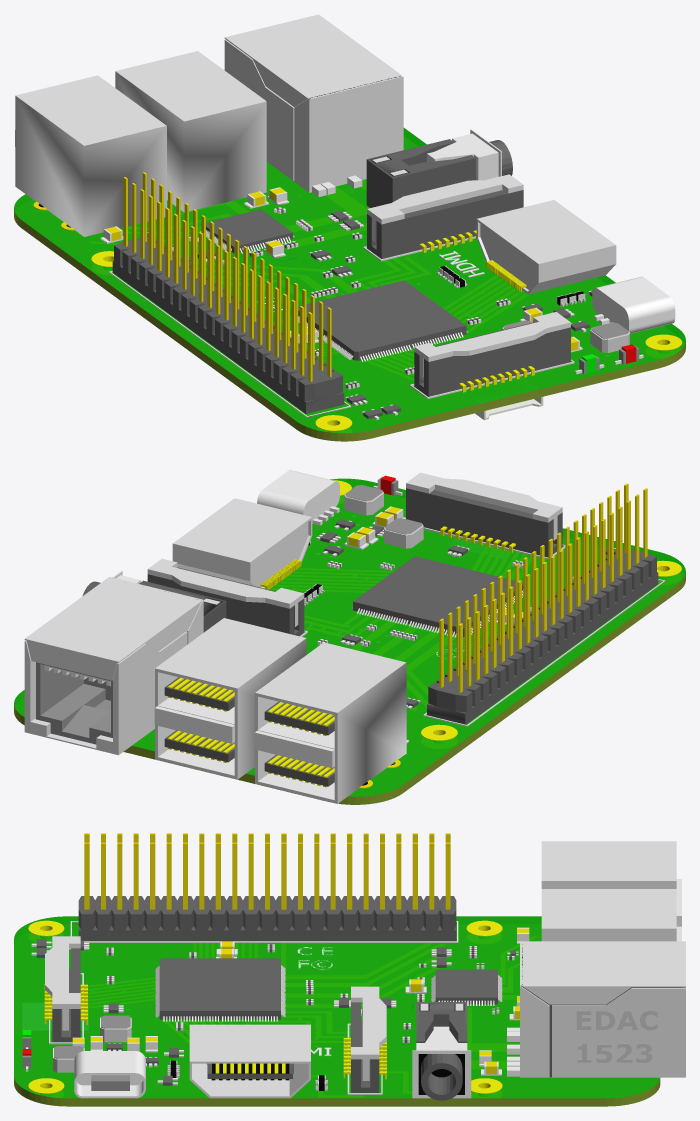
3 views of the same model, one above another, from view 1: azimuth 30°, elevation 25°; view 2: azimuth 150°, elevation 25°; view 3: azimuth 270°, elevation 25° (orthographic). The views are drawn at different scales.
Parts seen in each view (by area): view 1: Model, Group417, Group395, Group2, Group301, Group333, Group278, Group103, Group277, Group16; view 2: Model, Group417, Group395, Group2, Group301, Group333, Group103, Group278, Group5, Group11, Group277, Group12 (+7 smaller); view 3: Group417, Group395, Model, Group2, Group301, Group103, Group277, Group278, Group333, Group16, EDAC_1523_.
Boxes of the visible parts, <box> form: Model: <box>15,51,675,420</box>; Group417: <box>14,128,685,441</box>; Group395: <box>112,172,344,413</box>; Group2: <box>224,14,403,192</box>; Group301: <box>476,200,616,294</box>; Group333: <box>409,312,574,398</box>; Group278: <box>363,174,523,261</box>; Group103: <box>298,280,466,360</box>; Group277: <box>366,129,512,207</box>; Group16: <box>206,209,292,253</box>; Model: <box>155,470,665,803</box>; Group417: <box>14,478,685,804</box>; Group395: <box>427,483,658,724</box>; Group2: <box>24,577,203,755</box>; Group301: <box>172,498,312,589</box>; Group333: <box>406,472,565,559</box>; Group103: <box>353,556,523,637</box>; Group278: <box>147,558,307,636</box>; Group5: <box>154,672,234,776</box>; Group11: <box>254,696,334,800</box>; Group277: <box>82,571,226,632</box>; Group12: <box>264,701,334,735</box>; Group417: <box>14,916,660,1106</box>; Group395: <box>78,833,456,941</box>; Model: <box>22,841,676,1098</box>; Group2: <box>520,941,685,1077</box>; Group301: <box>189,1024,310,1098</box>; Group103: <box>159,958,280,1019</box>; Group277: <box>412,1002,471,1100</box>; Group278: <box>343,986,386,1094</box>; Group333: <box>44,936,87,1044</box>; Group16: <box>435,969,497,1004</box>; EDAC_1523_: <box>576,1011,657,1062</box>.
Size of the model in its own units: 1714 by 484 by 2572.
